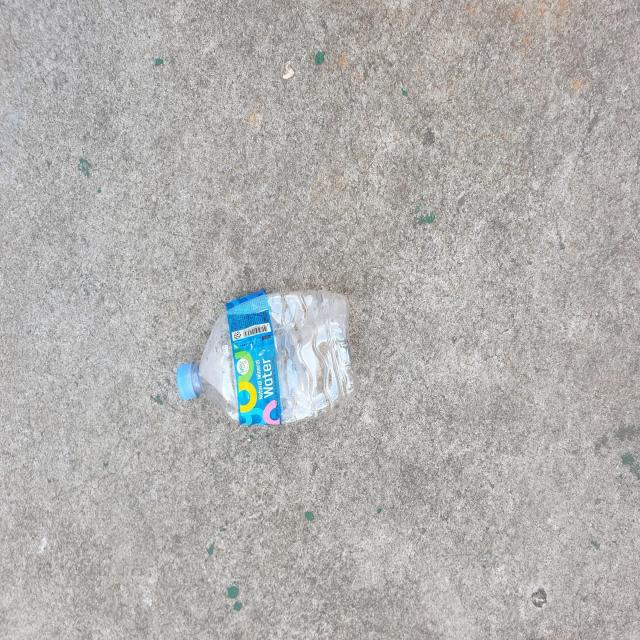plastic: (176, 289, 358, 426)
